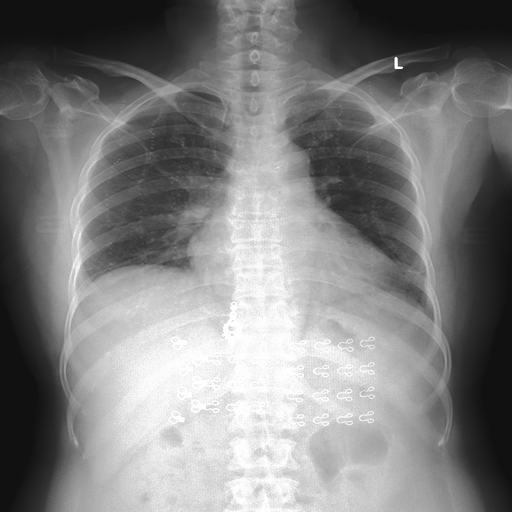Atelectasis: (68, 269, 96, 297)
Calcification: (68, 269, 96, 297)
Nodule/Mass: (185, 217, 400, 287)
